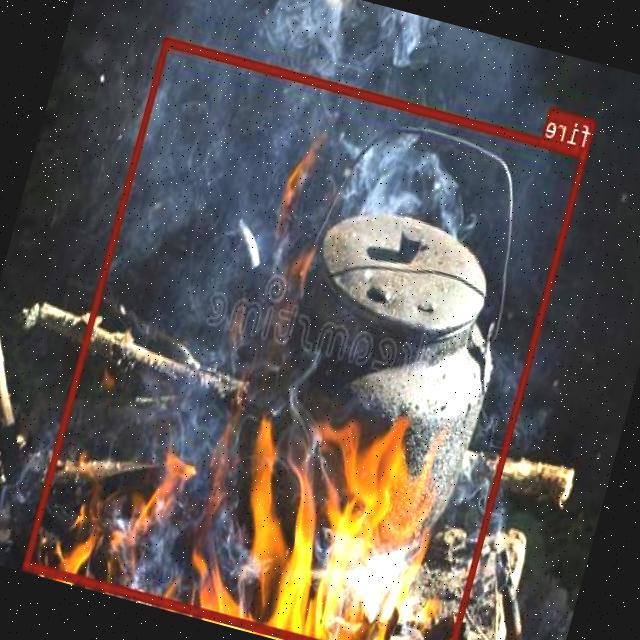fire: (25, 35, 590, 640)
